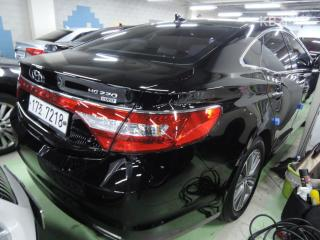1: (54, 110, 58, 125), (31, 98, 35, 111)
2: (49, 108, 54, 122)
7: (44, 105, 50, 120), (35, 99, 39, 114)
8: (57, 112, 63, 128)
조: (38, 103, 43, 116)
